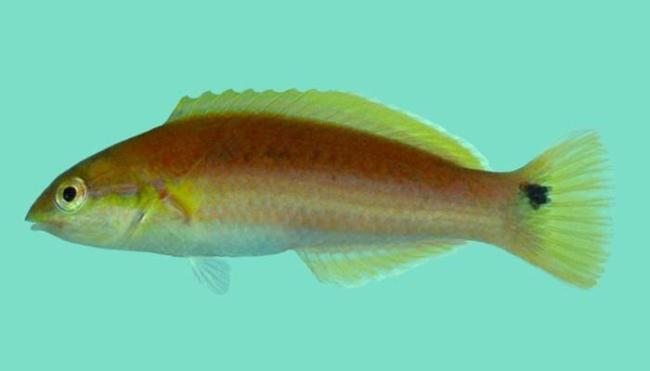fish: (25, 87, 613, 294)
